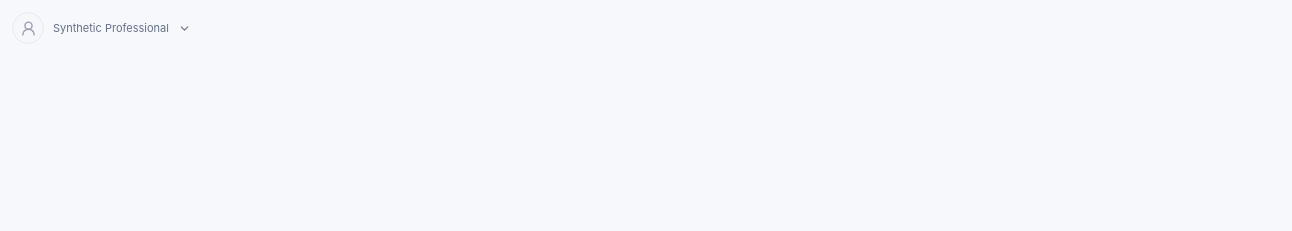
Test: Formulários e sessão › falha no logout não informa sucesso nem abandona a sessão
The image size is (1292, 231).
Step 1. Click the button "Synthetic Professional" → coordinates (101, 28), box [12,12,191,44]
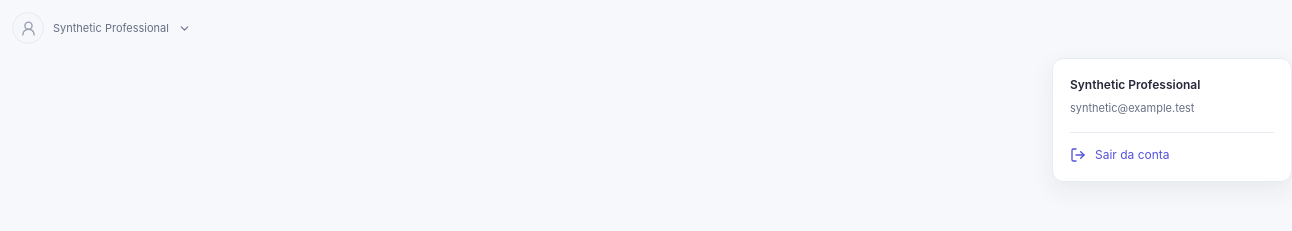
Step 2. Click the button "Sair da conta" → coordinates (1172, 148), box [1070,132,1274,164]
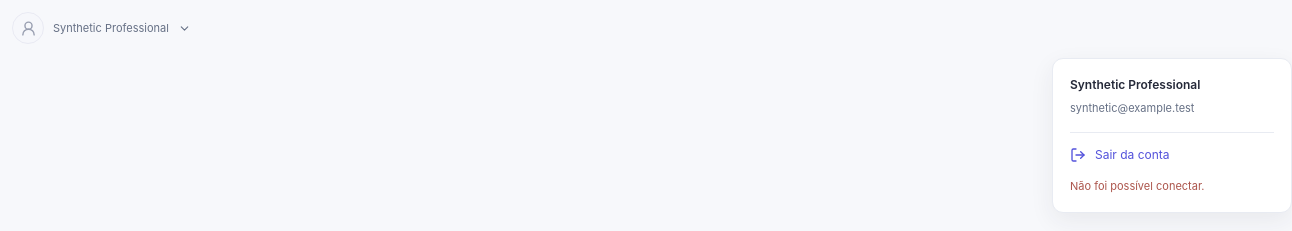
expect the message reads "Não foi possível conectar.": met, box [1070,178,1204,192]
